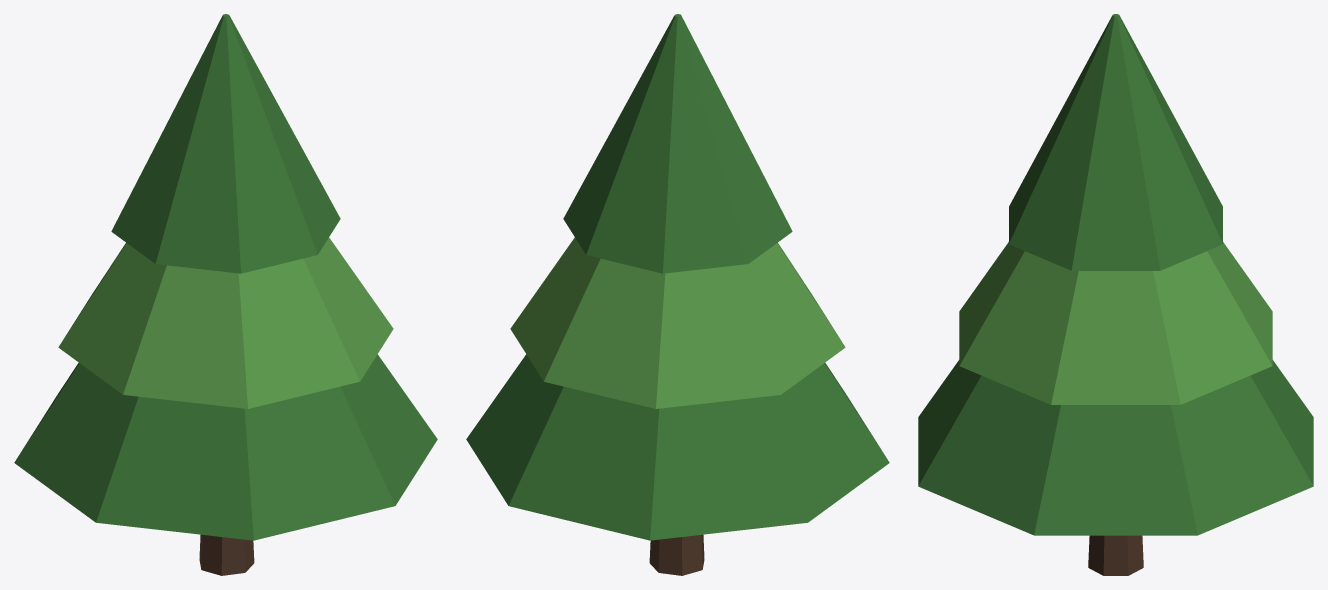
File: tree_pine.glb
The picture shows the model from 3 angles, left to right: view 1: azimuth 30°, elevation 25°; view 2: azimuth 150°, elevation 25°; view 3: azimuth 270°, elevation 25°; orthographic projection.
Visible parts, largest first — view 1: tree_pine; view 2: tree_pine; view 3: tree_pine.
Boxes of the visible parts, left/top/right/bottom form: tree_pine: left=14, top=14, right=437, bottom=575; tree_pine: left=466, top=14, right=889, bottom=575; tree_pine: left=918, top=14, right=1313, bottom=575.
Bounding box in the file's own units: 2.22 × 3.4 × 2.22.
